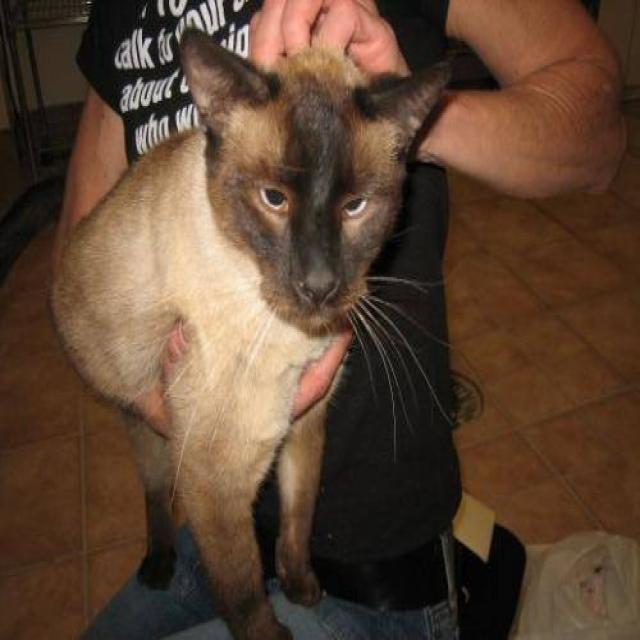Cat: (177, 28, 461, 348)
